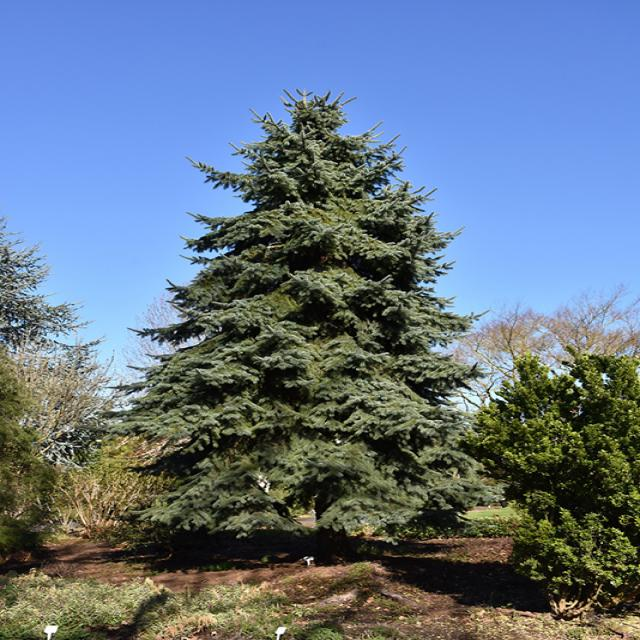Picea engelmannii: (129, 84, 493, 550)
